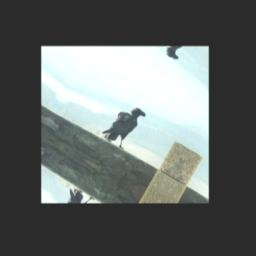Crow: (100, 98, 148, 152)
